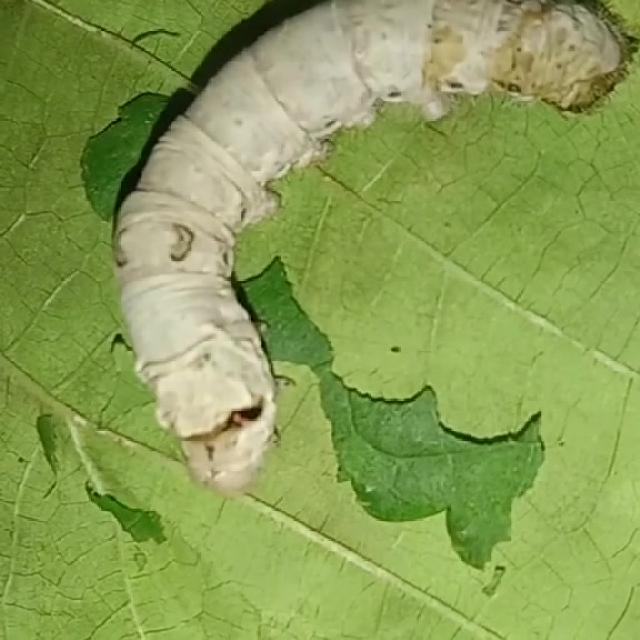Grasserie: (95, 0, 640, 506)
